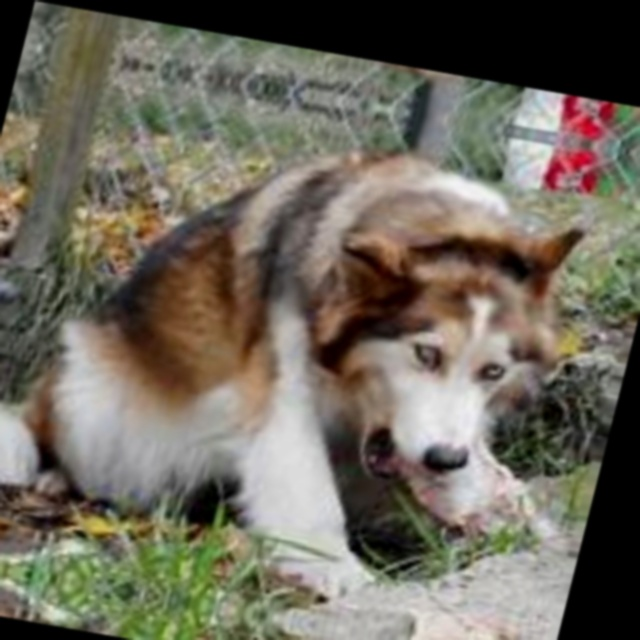dog: (0, 66, 614, 640), (74, 9, 627, 136), (0, 559, 488, 640)
